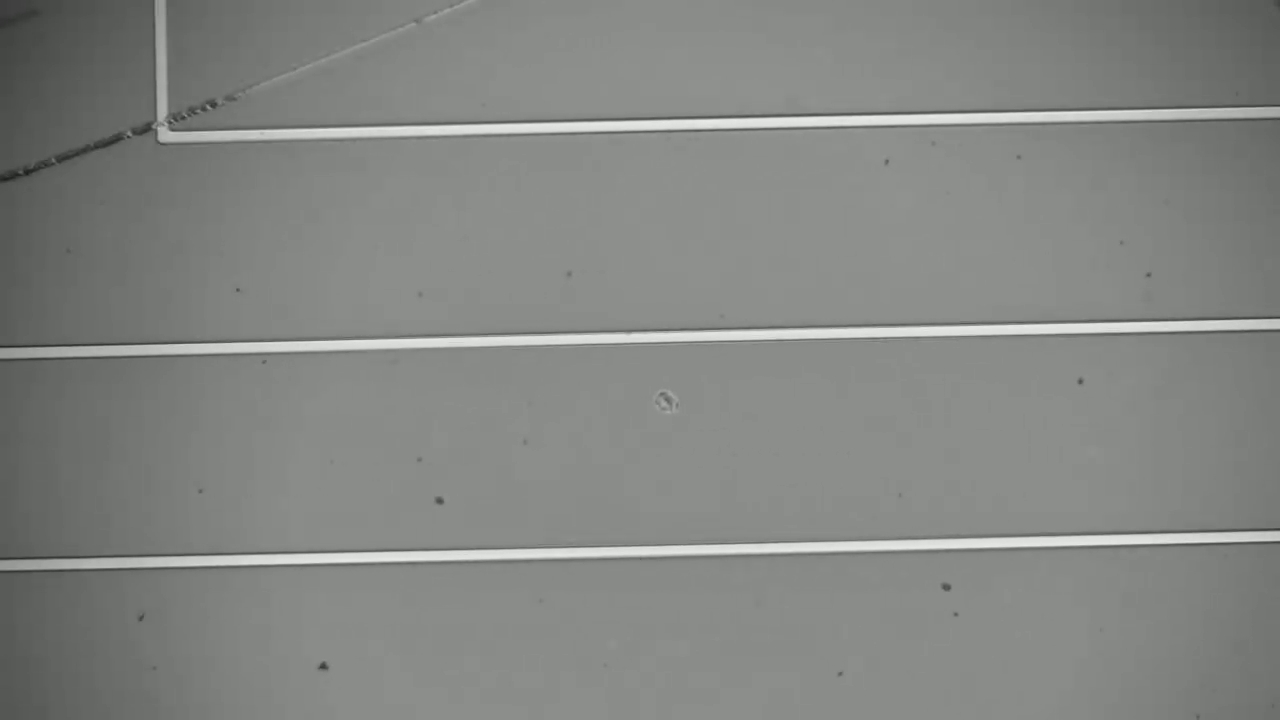scratch: (9, 1, 481, 190)
